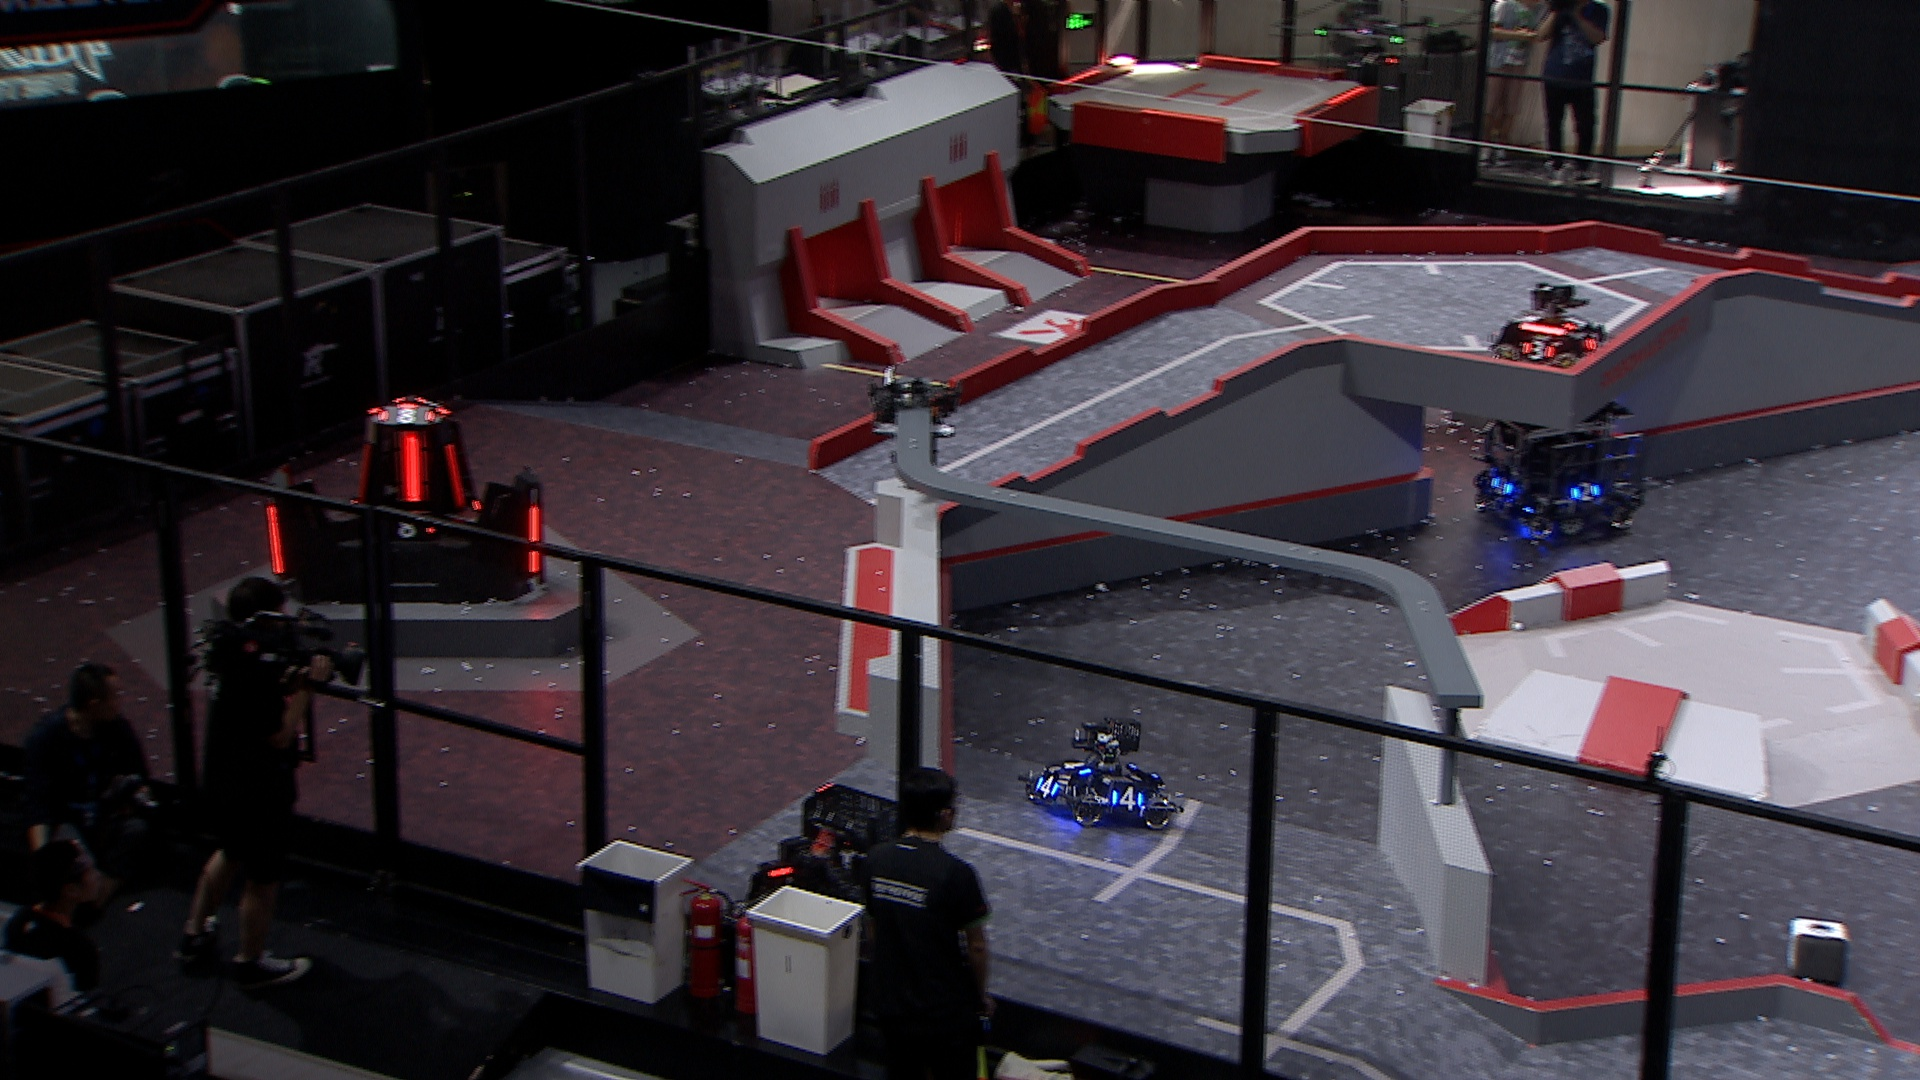armor: (400, 433, 427, 508), (443, 444, 468, 513), (264, 502, 287, 574), (526, 501, 545, 575), (386, 513, 436, 537), (356, 438, 372, 512), (377, 405, 430, 423), (1109, 787, 1143, 808), (1571, 477, 1604, 498), (1520, 342, 1553, 360), (1034, 774, 1058, 799), (1490, 473, 1514, 495), (1060, 760, 1091, 775), (1560, 314, 1588, 330), (1582, 332, 1604, 348)
base: (258, 392, 550, 607)
car: (740, 781, 926, 957), (1472, 390, 1646, 541), (1022, 713, 1182, 829), (1484, 277, 1610, 378)
watcher: (870, 363, 959, 472)
